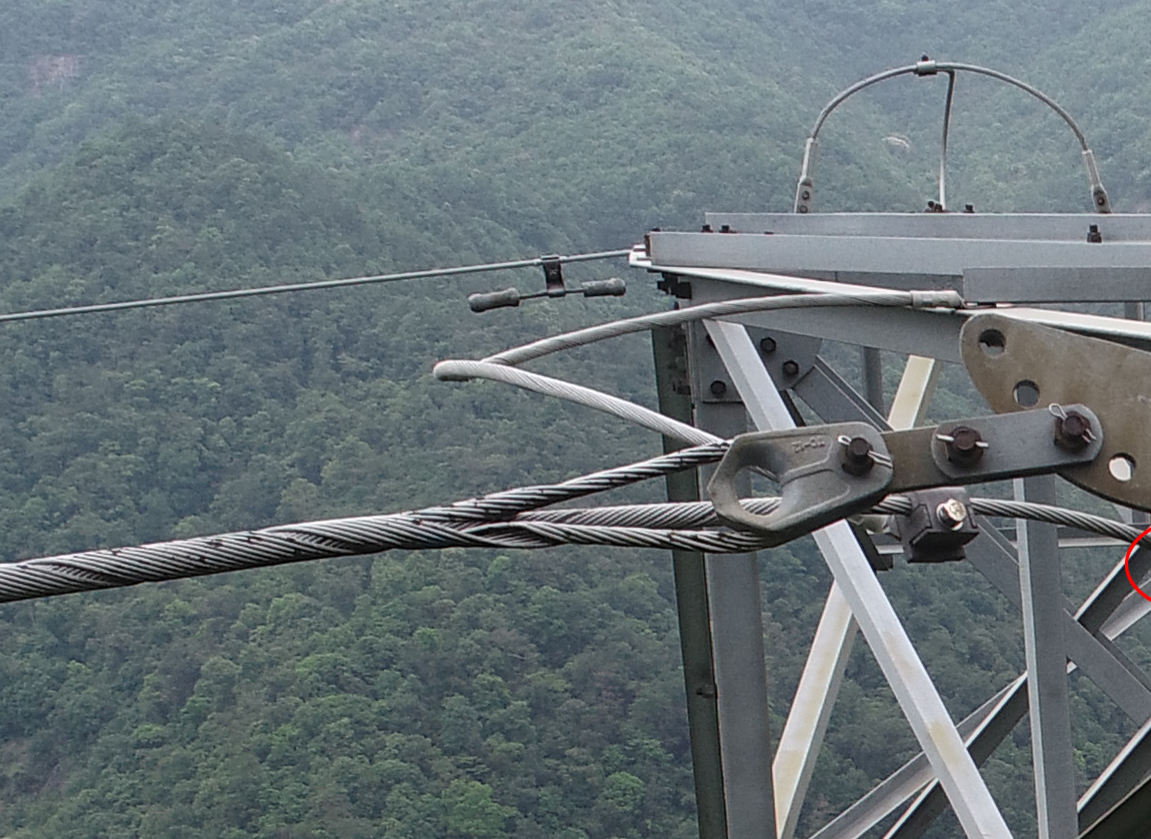damper: (464, 252, 627, 314)
